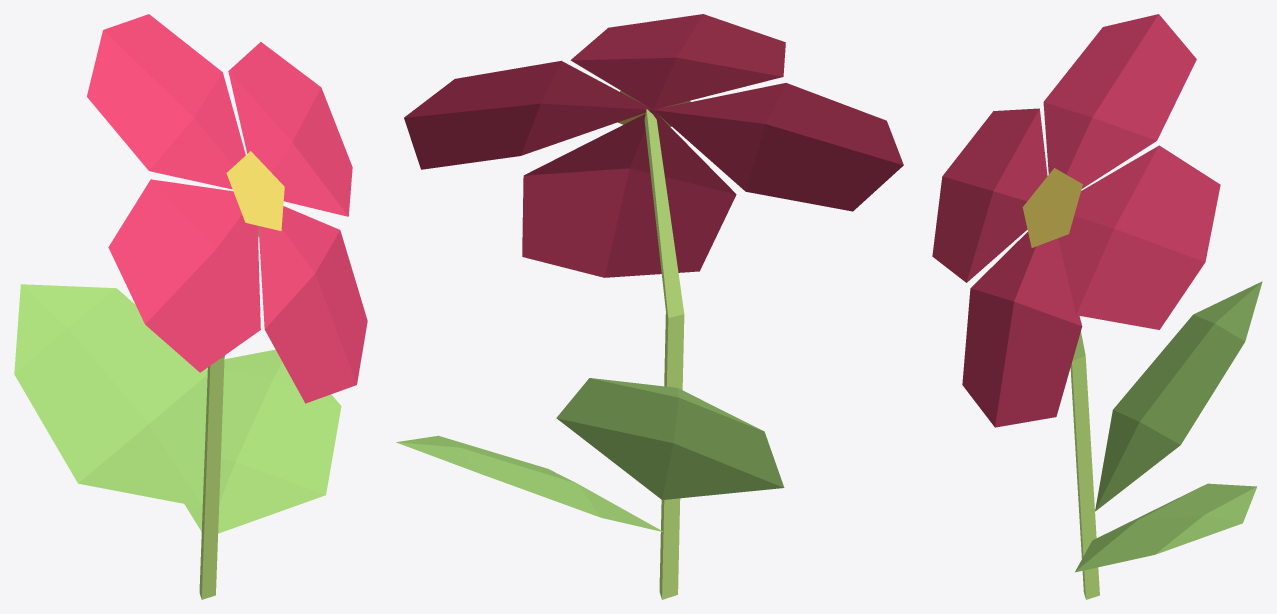
Rendered from Flower_c_TwoS_14.fbx.
3 views of the same model, side by side, from view 1: azimuth 30°, elevation 25°; view 2: azimuth 150°, elevation 25°; view 3: azimuth 270°, elevation 25° (orthographic). The views are drawn at different scales.
Visible parts, largest first — view 1: Flower_c_TwoS_14; view 2: Flower_c_TwoS_14; view 3: Flower_c_TwoS_14.
Part boxes in pixels (bbox=[...]): Flower_c_TwoS_14: bbox=[14, 14, 367, 599]; Flower_c_TwoS_14: bbox=[396, 14, 903, 599]; Flower_c_TwoS_14: bbox=[932, 14, 1262, 599].
Bounding box in the file's own units: 0.2584 × 0.4189 × 0.2282.
